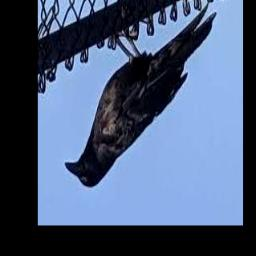Crow: (64, 2, 217, 188)
